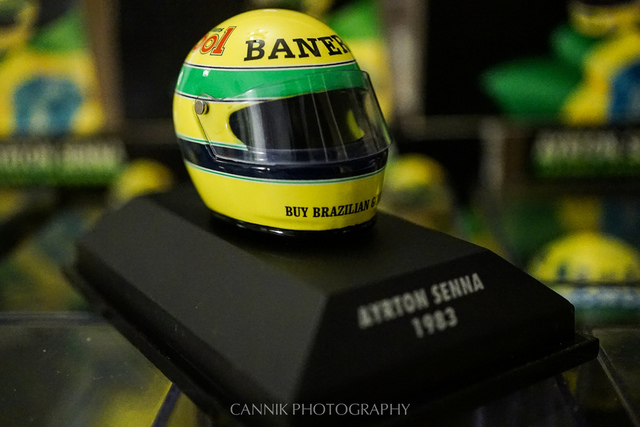helmet: (165, 14, 402, 233)
